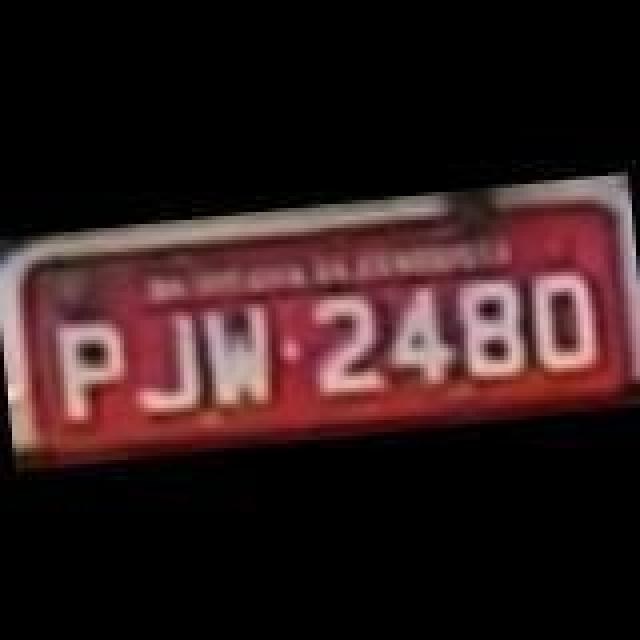2: (306, 294, 390, 402)
4: (374, 280, 458, 392)
8: (446, 272, 530, 384)
J: (126, 302, 210, 418)
O: (524, 262, 604, 378)
P: (50, 308, 134, 428)
W: (200, 296, 280, 408)
